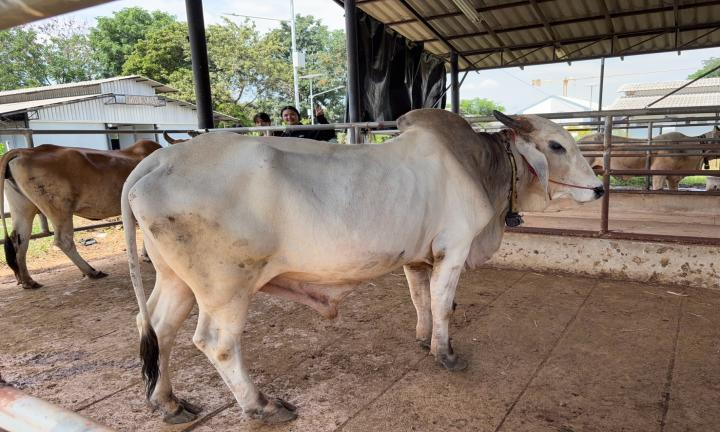Brahman: (120, 109, 602, 421)
